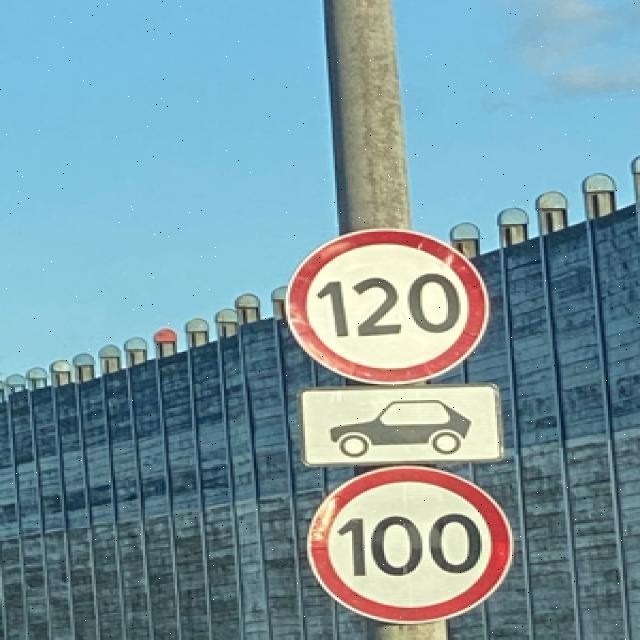speed limit 100: (307, 468, 513, 624)
speed limit 120: (283, 230, 490, 385)
